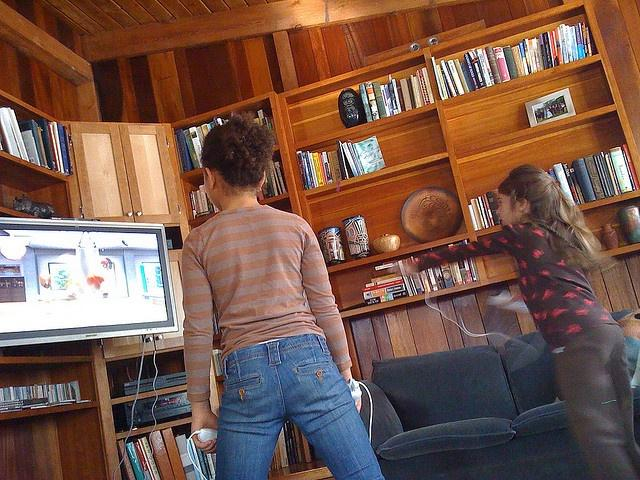AIO PC-Monitor-TV: (0, 216, 178, 346)
Rak: (277, 0, 639, 318)
